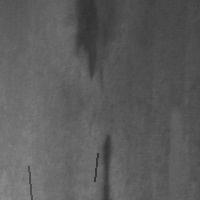inclusion: (67, 1, 105, 86), (97, 130, 117, 199), (26, 164, 34, 200), (92, 151, 99, 183)
